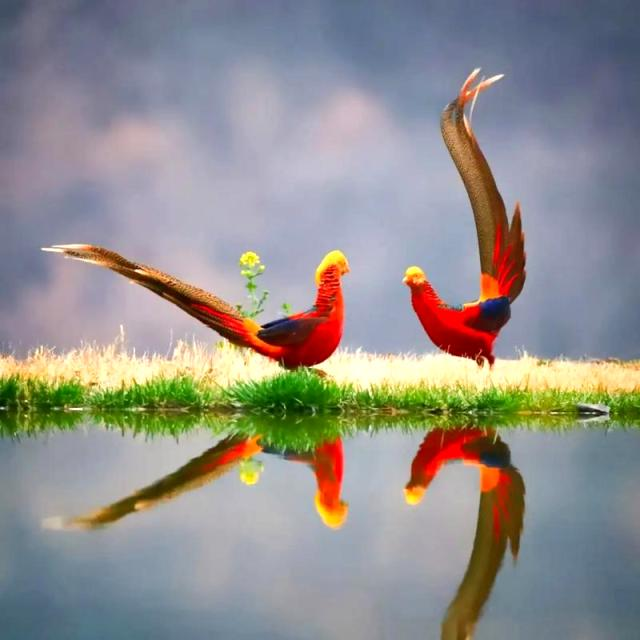Chrysolophus pictus feather: (41, 244, 250, 346), (440, 68, 526, 304)
